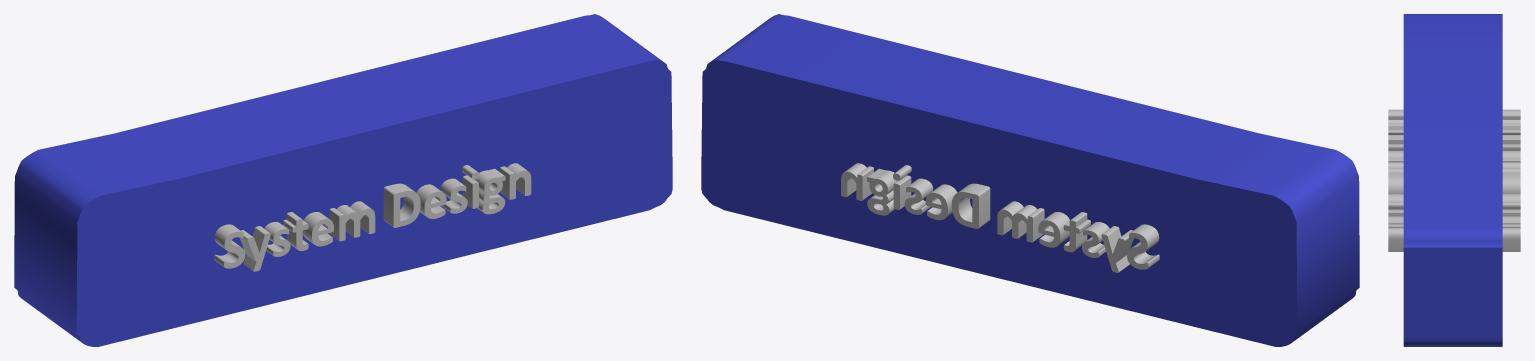
File: sysdesmodel.fbx
3 renders of one model, left to right at view 1: azimuth 30°, elevation 25°; view 2: azimuth 150°, elevation 25°; view 3: azimuth 270°, elevation 25°, orthographic. The views are drawn at different scales.
Visible parts, largest first — view 1: root, node_id88; view 2: root, node_id88; view 3: root, node_id88.
Part boxes in pixels (x1,y1,x2,y2): root: (14,14,672,346); node_id88: (214,163,531,271); root: (701,14,1359,346); node_id88: (841,163,1159,272); root: (1403,14,1502,346); node_id88: (1388,109,1520,251).
Bounding box in the file's own units: 0.4211 × 0.1022 × 0.1026.
